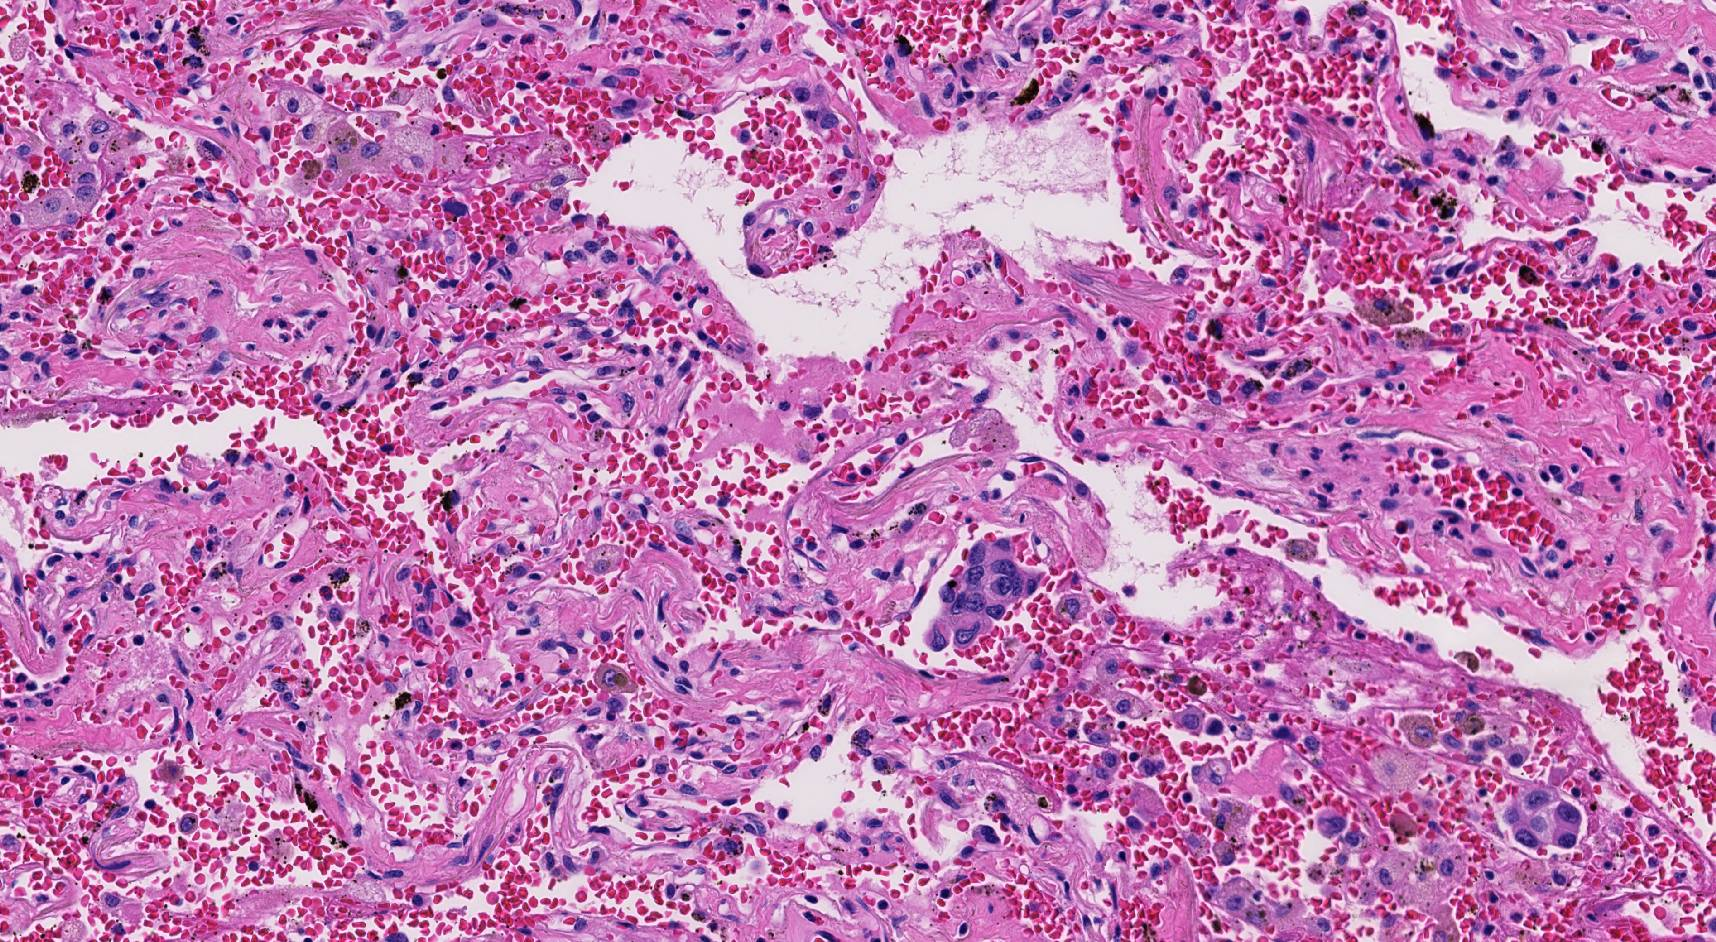stas: (924, 534, 1047, 652), (1509, 784, 1582, 850)
